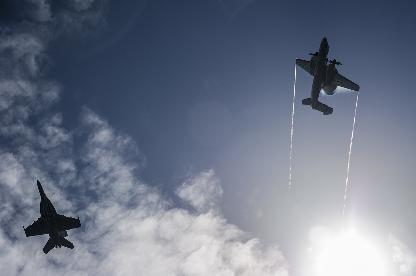C5: (295, 37, 359, 114)
F15: (23, 178, 81, 251)
